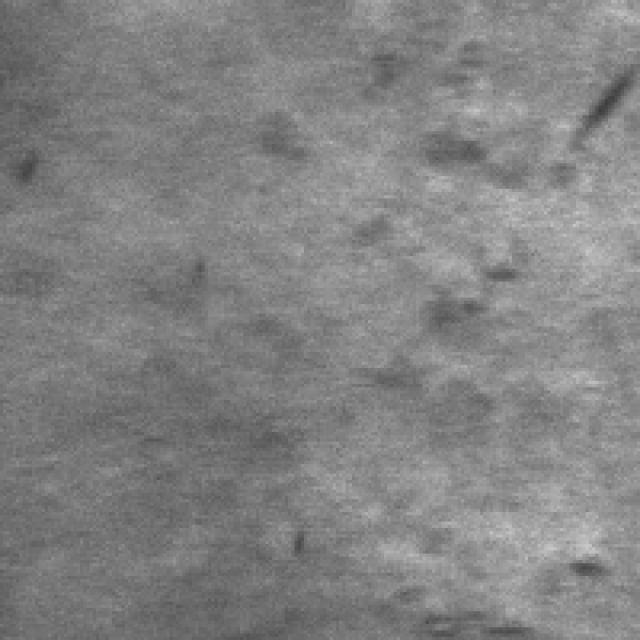rolled-in_scale: (400, 22, 576, 182), (371, 243, 528, 403), (390, 524, 614, 634)
